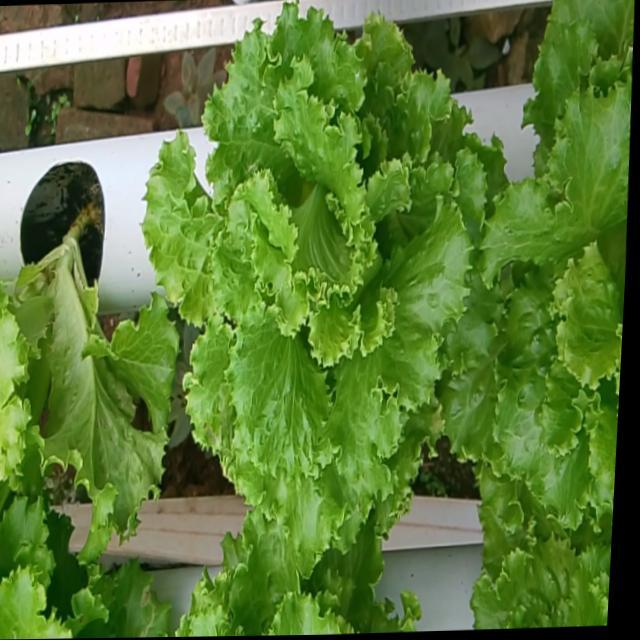Mature: (126, 0, 473, 554), (431, 66, 632, 525)
